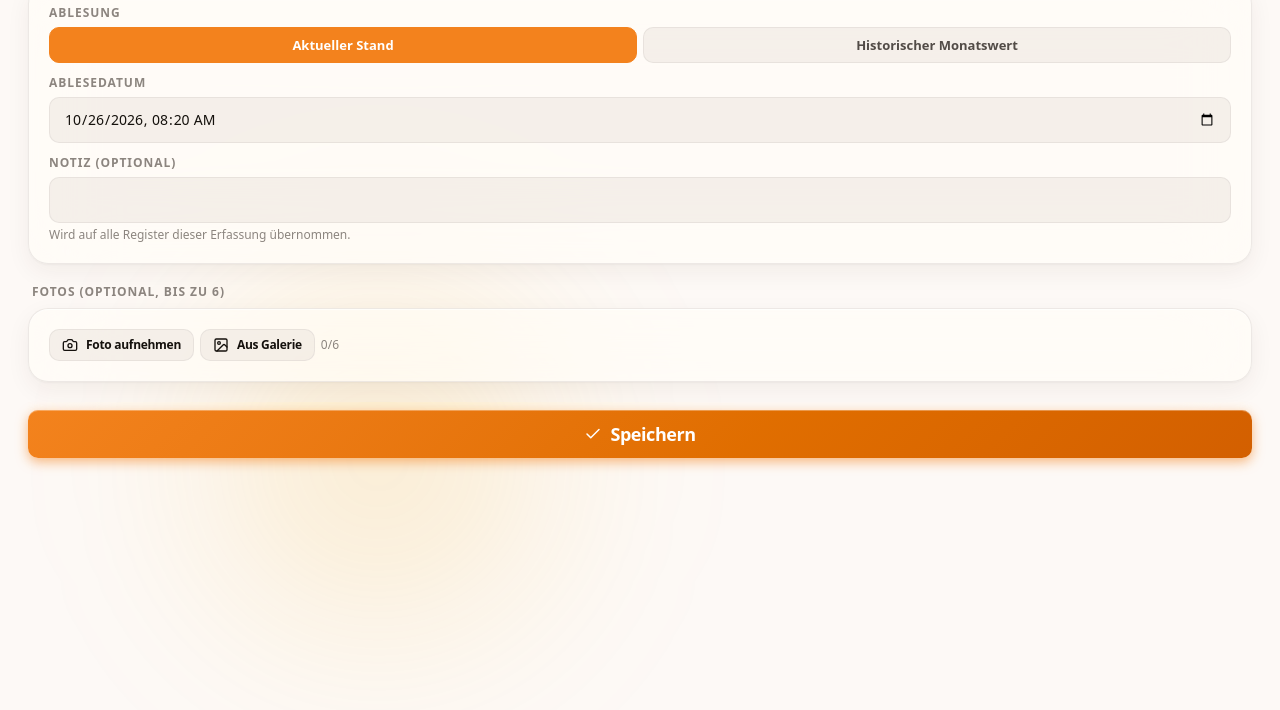
Test: RecordReadingPage › Submit ohne Werte zeigt Inline-Fehler
(page scrolled)
What coordinates should you click on to do the following:
click the button "Speichern"
I would click on:
 (640, 434)
Its box is [28,410,1252,458].
(page scrolled)
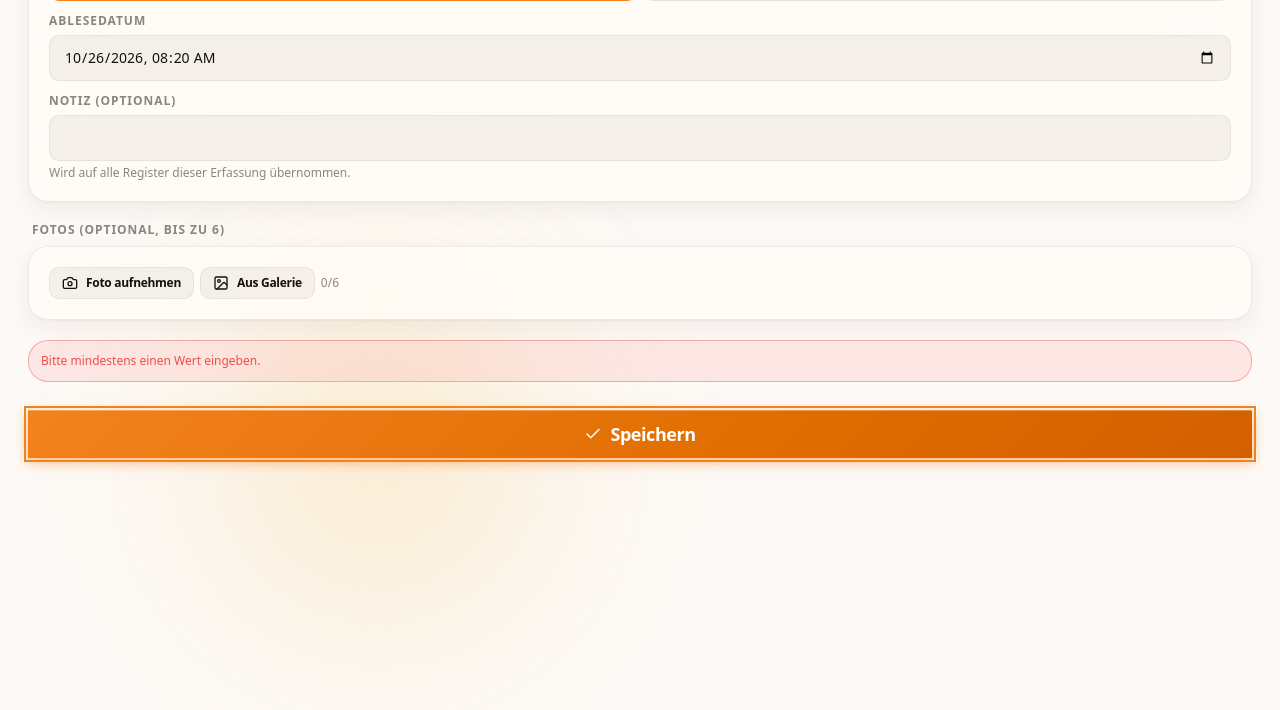
Now the text with test id "record-error" shows "mindestens einen Wert", box [41,352,260,369]
